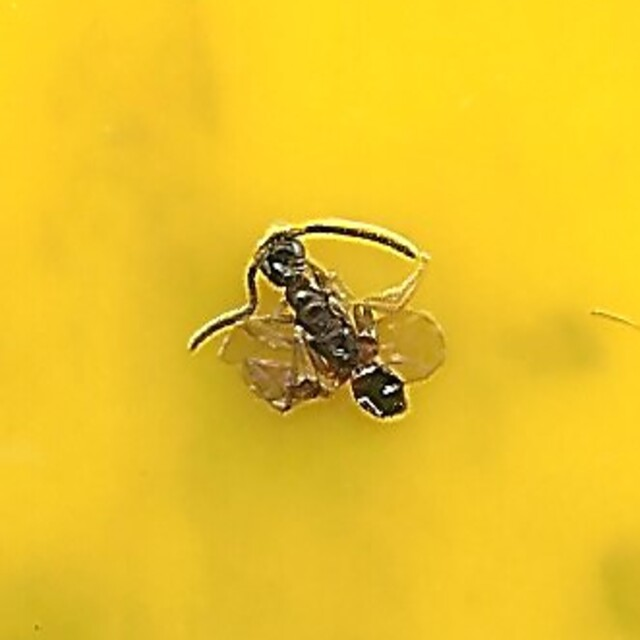Hymenoptera: (193, 215, 447, 425)
